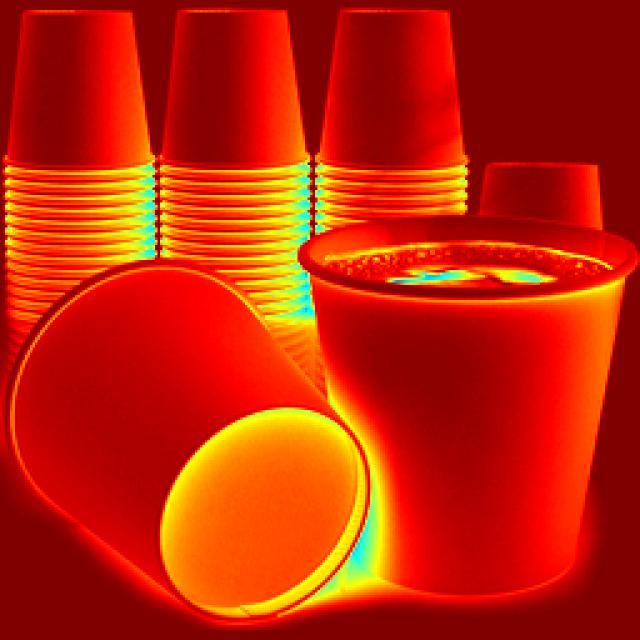Paper Cups: (319, 204, 625, 627), (12, 250, 320, 603), (159, 10, 316, 177), (0, 10, 145, 179), (320, 9, 460, 182)
